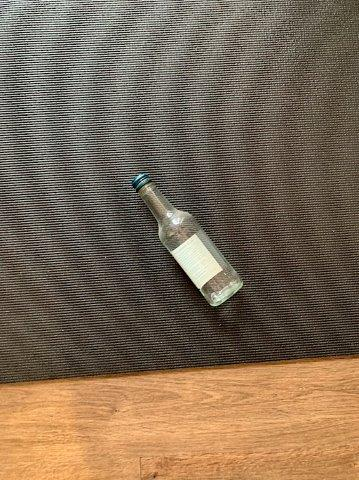botolkaca: (133, 174, 242, 306)
